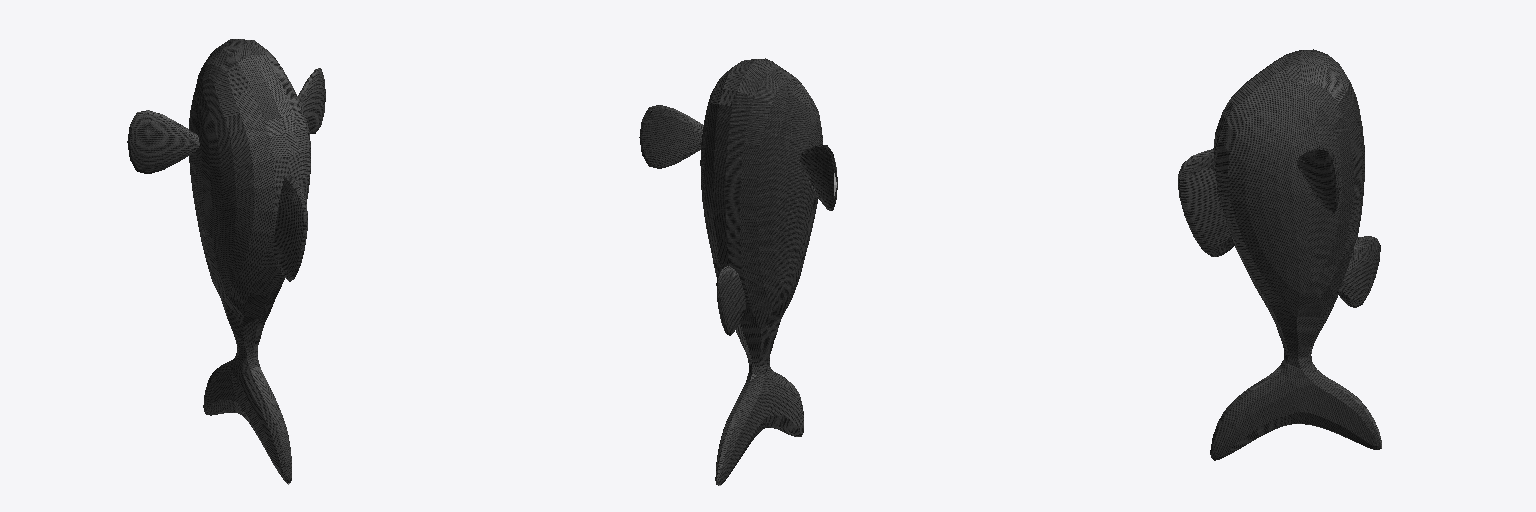
3 views of the same model, side by side, from view 1: azimuth 30°, elevation 25°; view 2: azimuth 150°, elevation 25°; view 3: azimuth 270°, elevation 25° (orthographic).
Visible parts, largest first — view 1: Object.1; view 2: Object.1; view 3: Object.1.
Boxes of the visible parts, x1,y1,x2,y2 form: Object.1: [127, 39, 325, 484]; Object.1: [639, 58, 837, 485]; Object.1: [1178, 49, 1381, 460].
Size of the model in its own units: 88.19 by 174 by 79.09.
Materials: 2 (1 with a texture image).